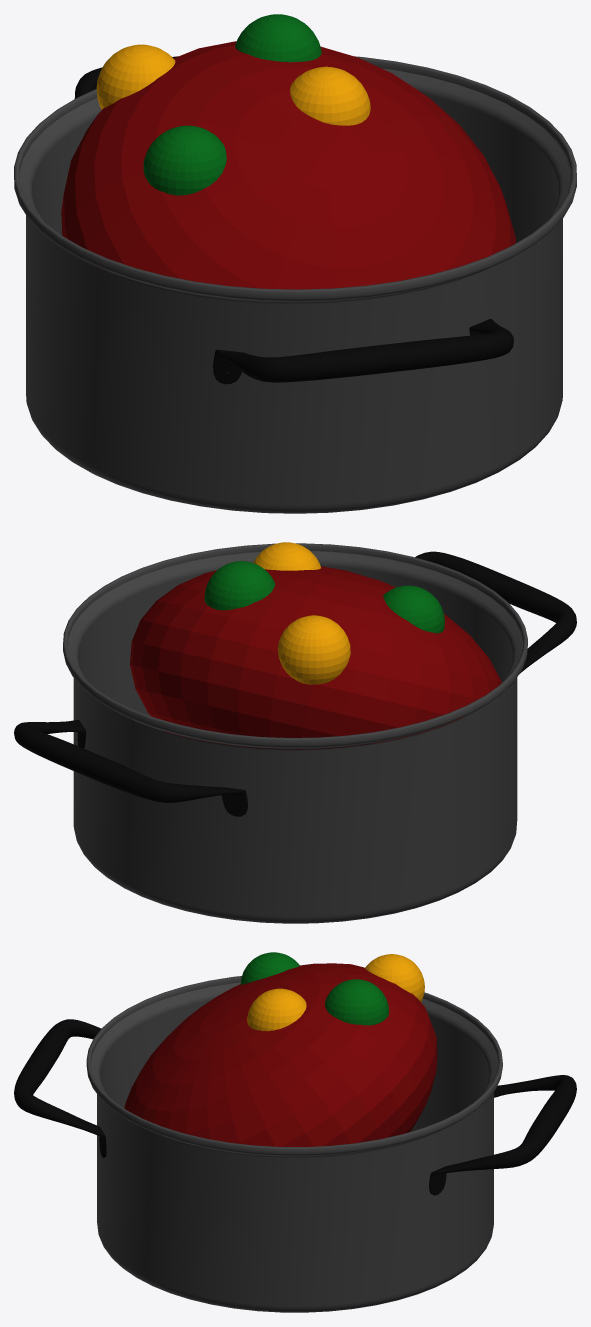
Rendered from potwithsoupoftomato.fbx.
3 renders of one model, top to bottom at view 1: azimuth 30°, elevation 25°; view 2: azimuth 150°, elevation 25°; view 3: azimuth 270°, elevation 25°, orthographic. The views are drawn at different scales.
Visible parts, largest first — view 1: Pot, Sphere, PotInside, PotHandleRight, Sphere.009, Sphere.003, Sphere.001, Sphere.005; view 2: Pot, Sphere, PotInside, PotHandleLeft, PotHandleRight, Sphere.005, Sphere.001, Sphere.009, Sphere.003; view 3: Pot, Sphere, PotInside, PotHandleLeft, PotHandleRight, Sphere.001, Sphere.003, Sphere.005, Sphere.009.
Part boxes in pixels (x1=…): Pot: x1=26, y1=83, x2=570, y2=513; Sphere: x1=61, y1=41, x2=515, y2=289; PotInside: x1=14, y1=56, x2=576, y2=302; PotHandleRight: x1=213, y1=318, x2=513, y2=384; Sphere.009: x1=143, y1=125, x2=226, y2=195; Sphere.003: x1=290, y1=66, x2=370, y2=125; Sphere.001: x1=235, y1=14, x2=321, y2=62; Sphere.005: x1=96, y1=44, x2=175, y2=109; Pot: x1=68, y1=551, x2=520, y2=923; Sphere: x1=130, y1=566, x2=501, y2=749; PotInside: x1=63, y1=543, x2=527, y2=749; PotHandleLeft: x1=14, y1=720, x2=247, y2=816; PotHandleRight: x1=415, y1=551, x2=576, y2=673; Sphere.005: x1=278, y1=615, x2=350, y2=684; Sphere.001: x1=204, y1=561, x2=275, y2=610; Sphere.009: x1=383, y1=585, x2=444, y2=633; Sphere.003: x1=253, y1=542, x2=320, y2=570; Pot: x1=91, y1=998, x2=493, y2=1312; Sphere: x1=124, y1=963, x2=437, y2=1146; PotInside: x1=86, y1=976, x2=502, y2=1156; PotHandleLeft: x1=429, y1=1075, x2=576, y2=1195; PotHandleRight: x1=14, y1=1019, x2=106, y2=1157; Sphere.001: x1=325, y1=979, x2=388, y2=1025; Sphere.003: x1=247, y1=988, x2=306, y2=1031; Sphere.005: x1=365, y1=954, x2=424, y2=1001; Sphere.009: x1=240, y1=952, x2=299, y2=984.
Size of the model in its own units: 31.41 by 22.24 by 42.53.
